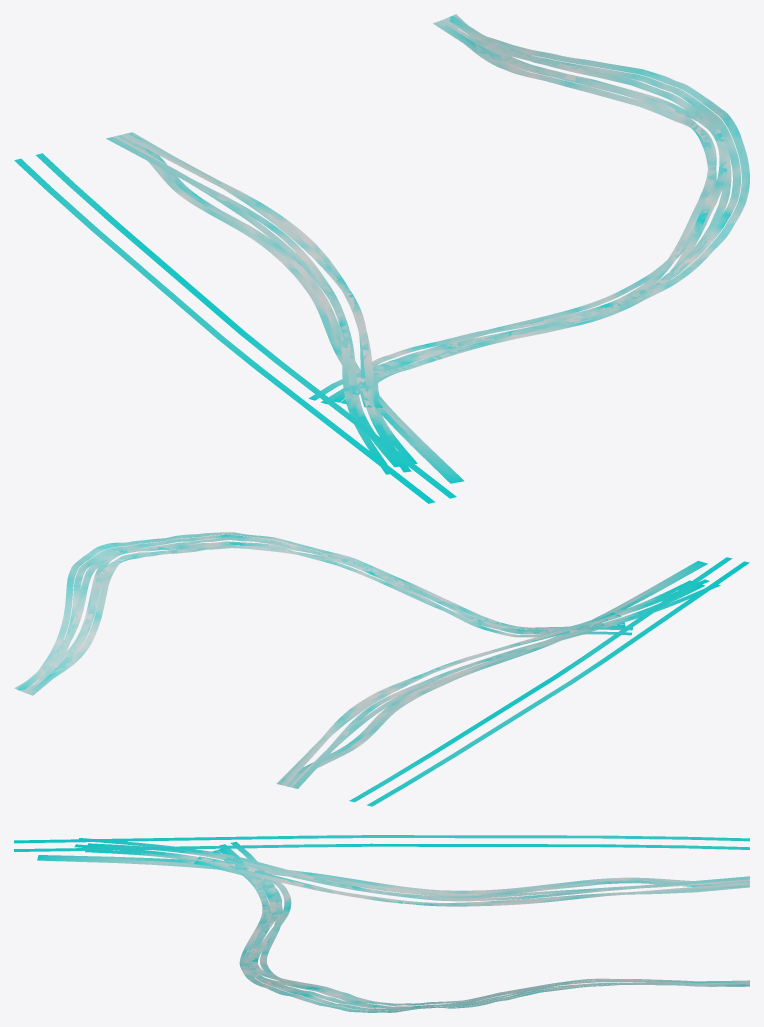
3 renders of one model, top to bottom at view 1: azimuth 30°, elevation 25°; view 2: azimuth 150°, elevation 25°; view 3: azimuth 270°, elevation 25°, orthographic. The views are drawn at different scales.
Visible parts, largest first — view 1: SpaceCenter_Long3_GenerateRoad_Sand_TireTracks_Narrow_Mesh_x; view 2: SpaceCenter_Long3_GenerateRoad_Sand_TireTracks_Narrow_Mesh_x; view 3: SpaceCenter_Long3_GenerateRoad_Sand_TireTracks_Narrow_Mesh_x.
Part boxes in pixels (x1,y1,x2,y2): SpaceCenter_Long3_GenerateRoad_Sand_TireTracks_Narrow_Mesh_x: [14, 14, 749, 503]; SpaceCenter_Long3_GenerateRoad_Sand_TireTracks_Narrow_Mesh_x: [14, 532, 749, 806]; SpaceCenter_Long3_GenerateRoad_Sand_TireTracks_Narrow_Mesh_x: [14, 835, 749, 1012].
Size of the model in its own units: 2304 by 1683 by 230.
